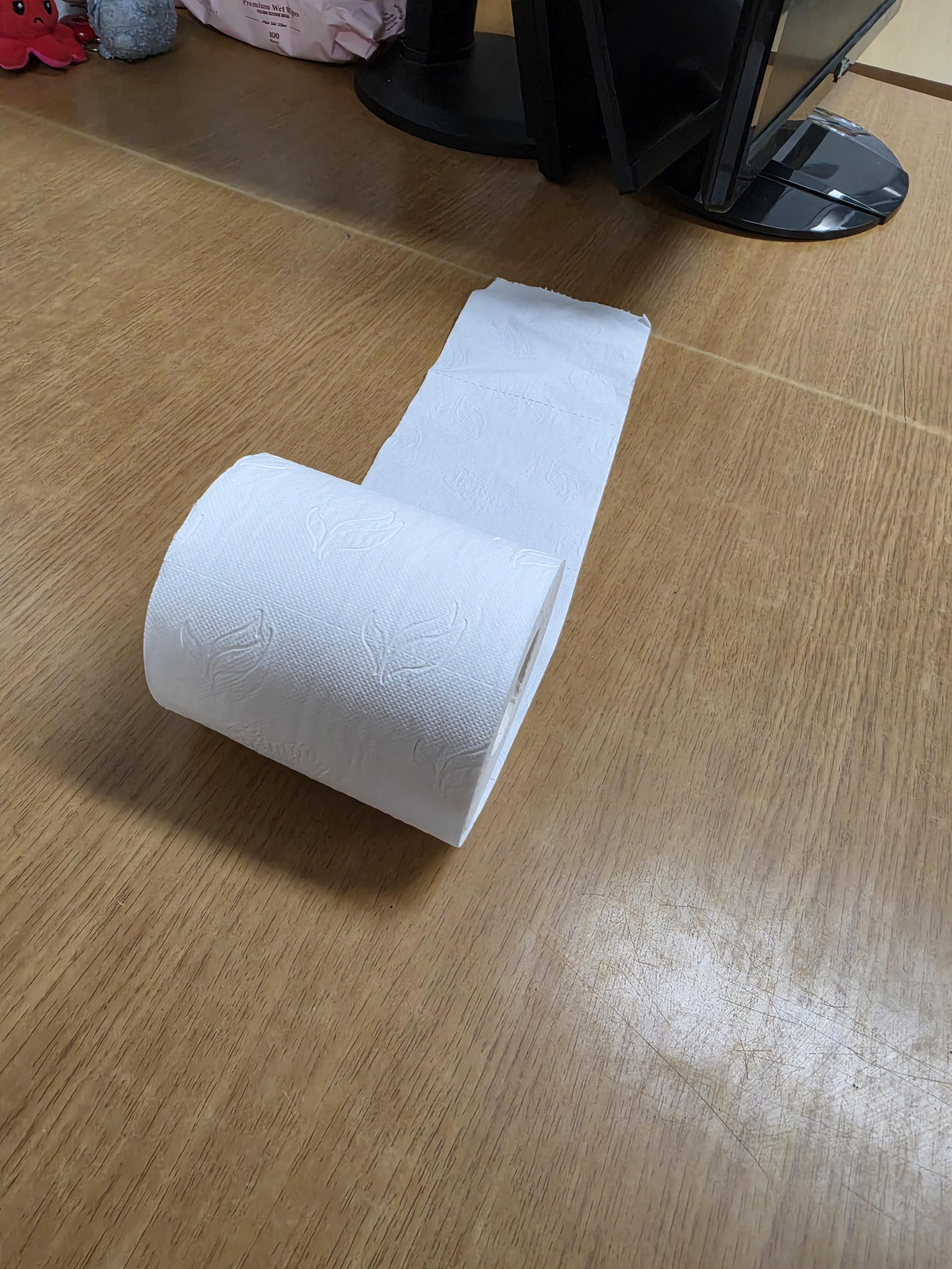tissue: (141, 277, 652, 848)
